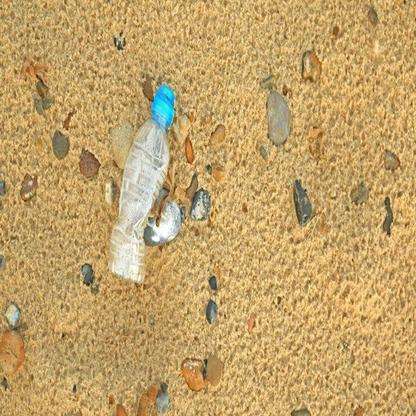plastic bottle: (109, 84, 176, 280)
